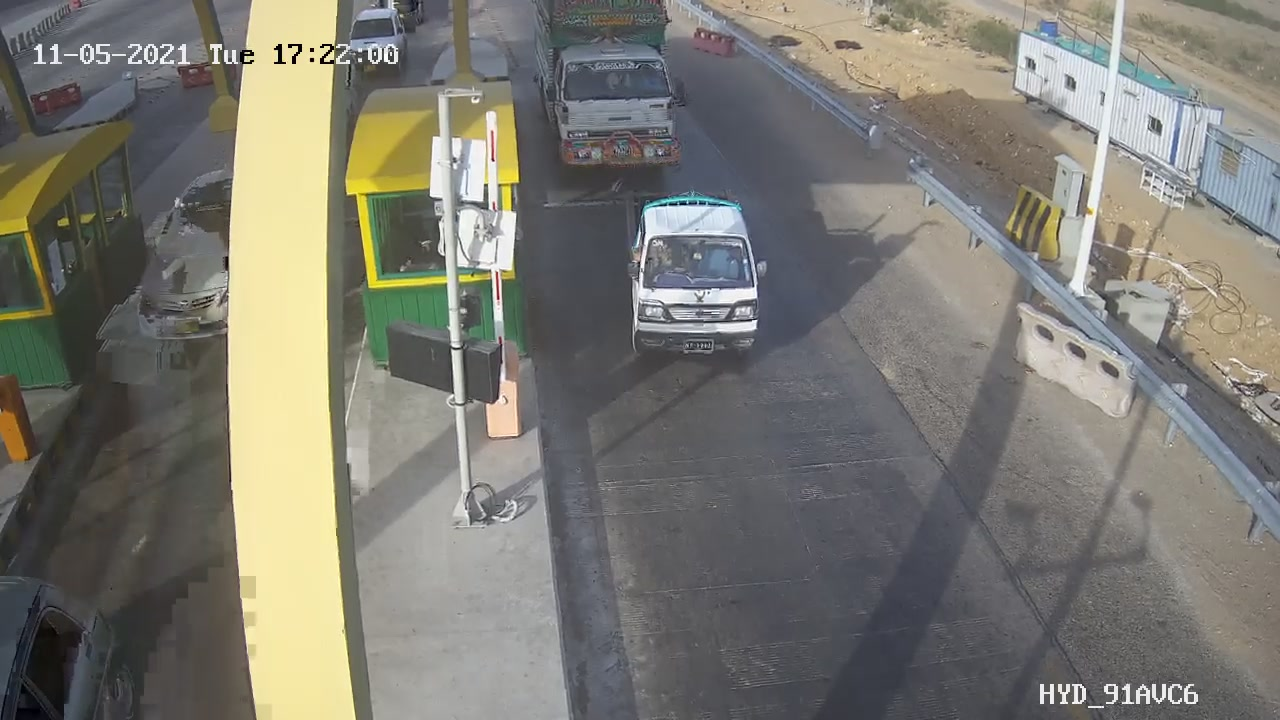F1: (603, 177, 786, 377)
